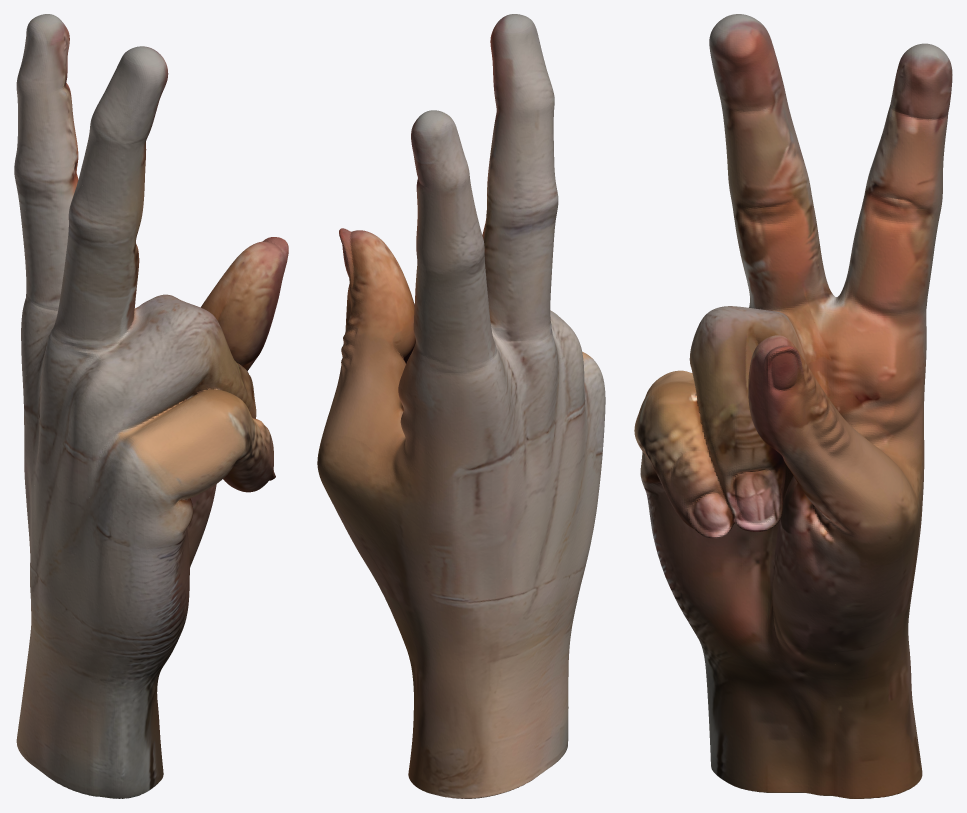
File: letter_V.glb
3 views of the same model, side by side, from view 1: azimuth 30°, elevation 25°; view 2: azimuth 150°, elevation 25°; view 3: azimuth 270°, elevation 25° (orthographic). The views are drawn at different scales.
Visible parts, largest first — view 1: tripo_node_d77e9fe4-c767-4448-b8b4-48a67cfbb4e0; view 2: tripo_node_d77e9fe4-c767-4448-b8b4-48a67cfbb4e0; view 3: tripo_node_d77e9fe4-c767-4448-b8b4-48a67cfbb4e0.
Boxes of the visible parts, left/top/right/bottom form: tripo_node_d77e9fe4-c767-4448-b8b4-48a67cfbb4e0: left=14, top=14, right=288, bottom=798; tripo_node_d77e9fe4-c767-4448-b8b4-48a67cfbb4e0: left=317, top=14, right=605, bottom=798; tripo_node_d77e9fe4-c767-4448-b8b4-48a67cfbb4e0: left=634, top=14, right=952, bottom=798.
Bounding box in the file's own units: 0.3306 × 1 × 0.3783.
Materials: 1 (1 with a texture image).
